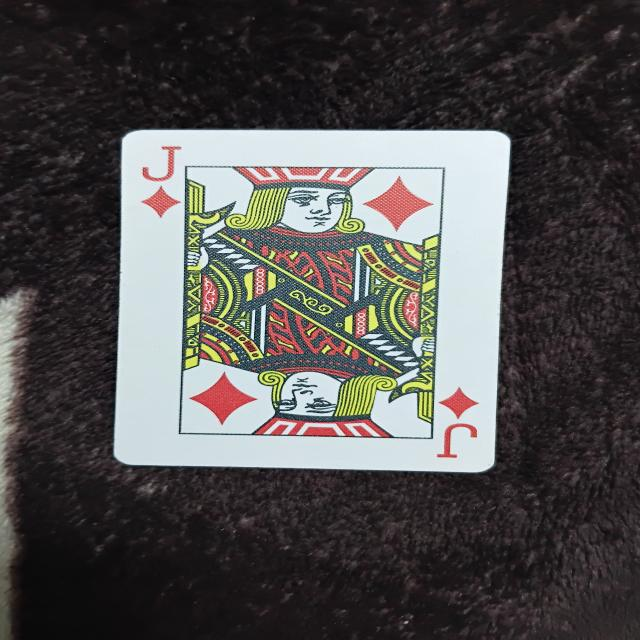JD: (123, 129, 499, 469)
